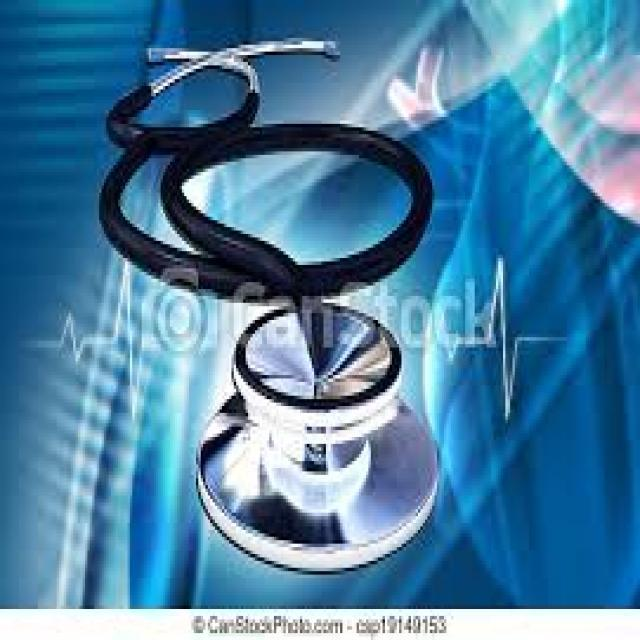stethoscope: (109, 17, 455, 598)
